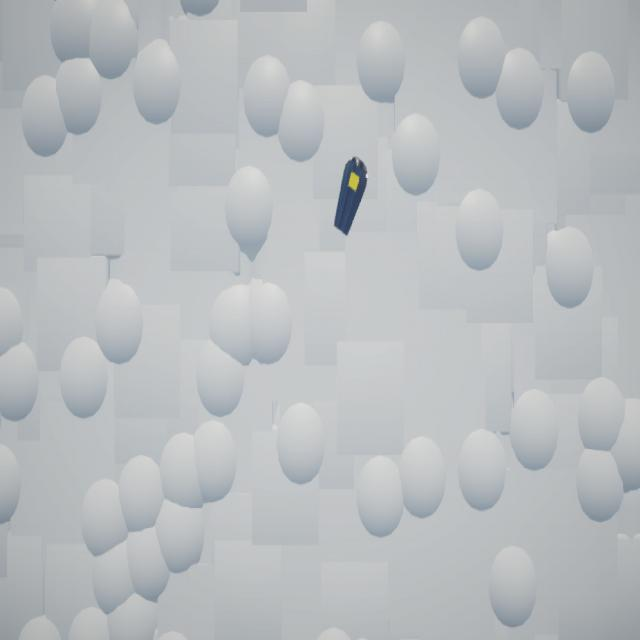handle_folk: (335, 158, 369, 237)
